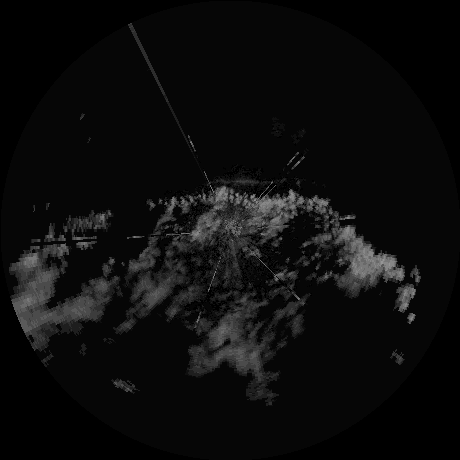frontgust: (202, 175, 296, 187)
